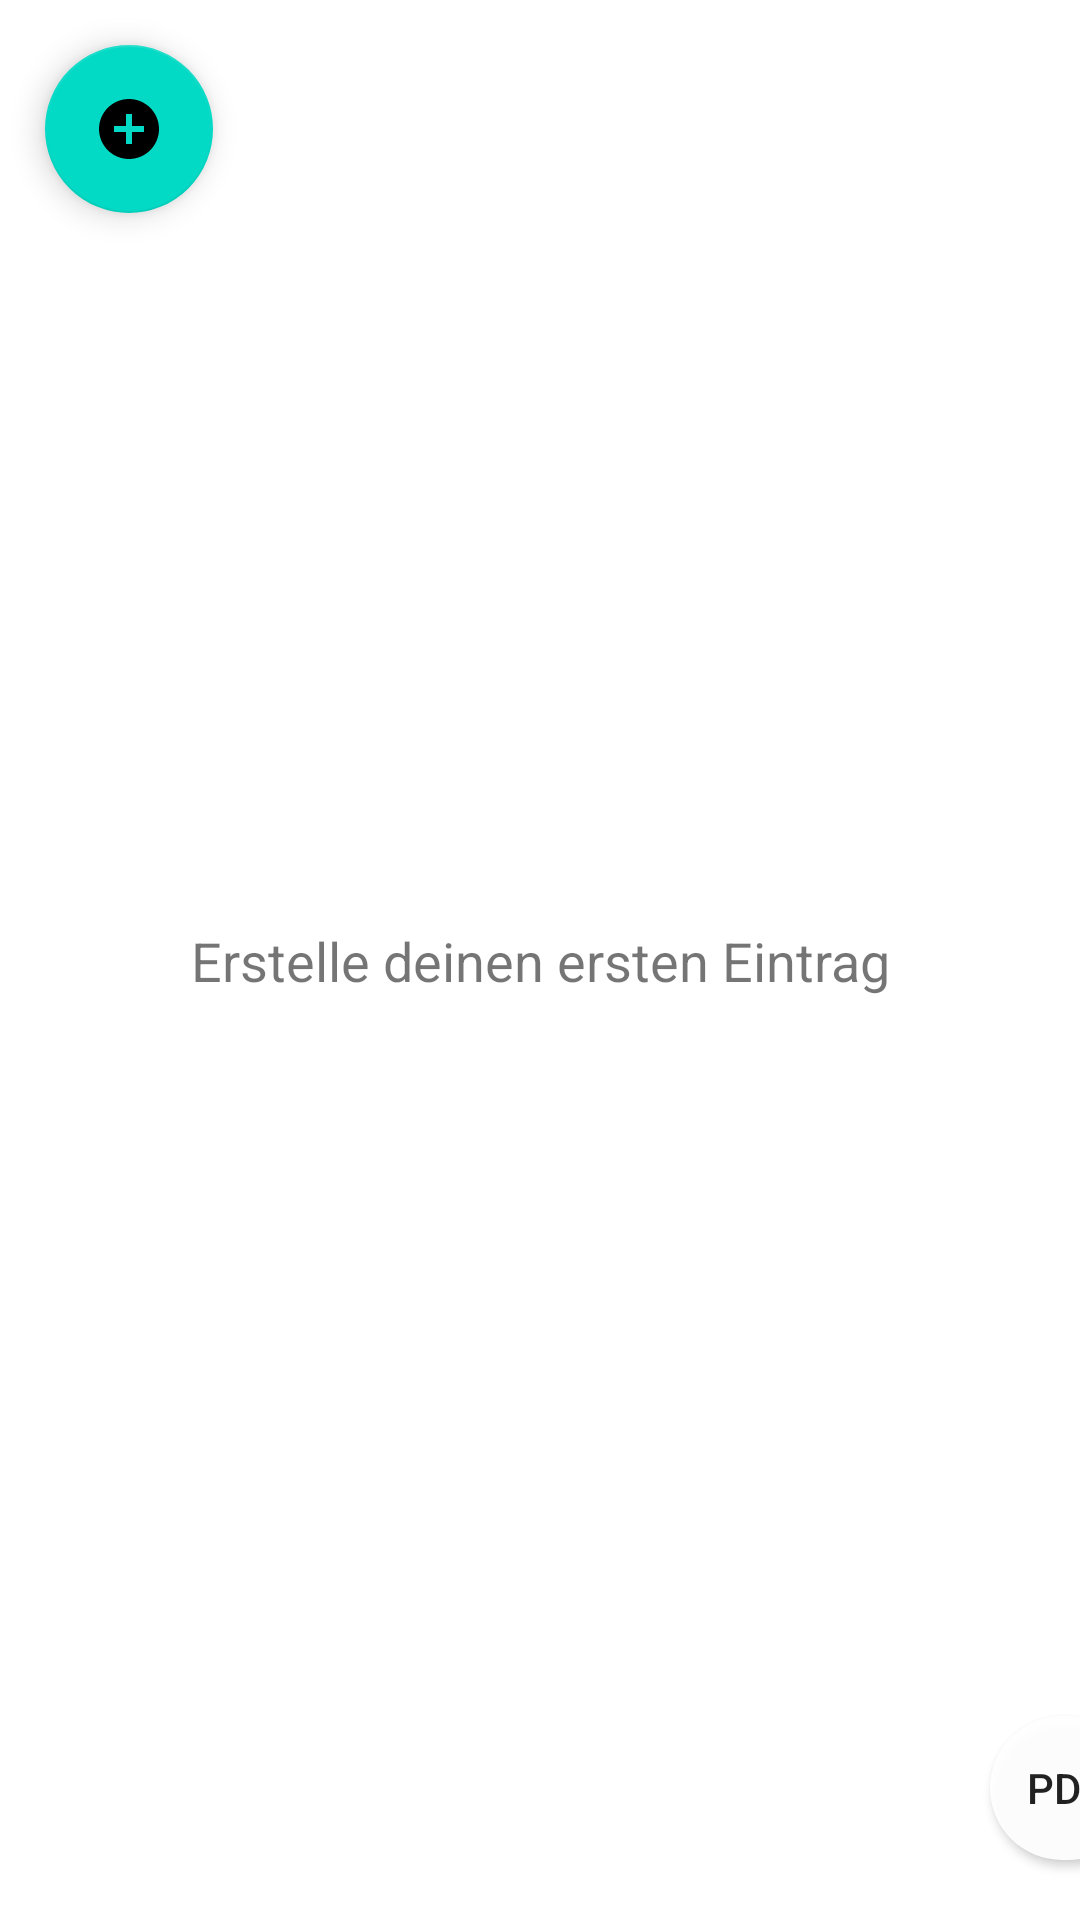

Named icons in this screenshot (1080w x 1920h) and their bounding boxes, (x1, y1, x2, y2):
add circle: (45, 45, 213, 213)
